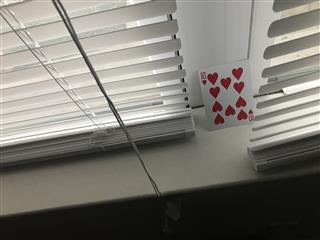TenOfHearts: (197, 58, 254, 131)
